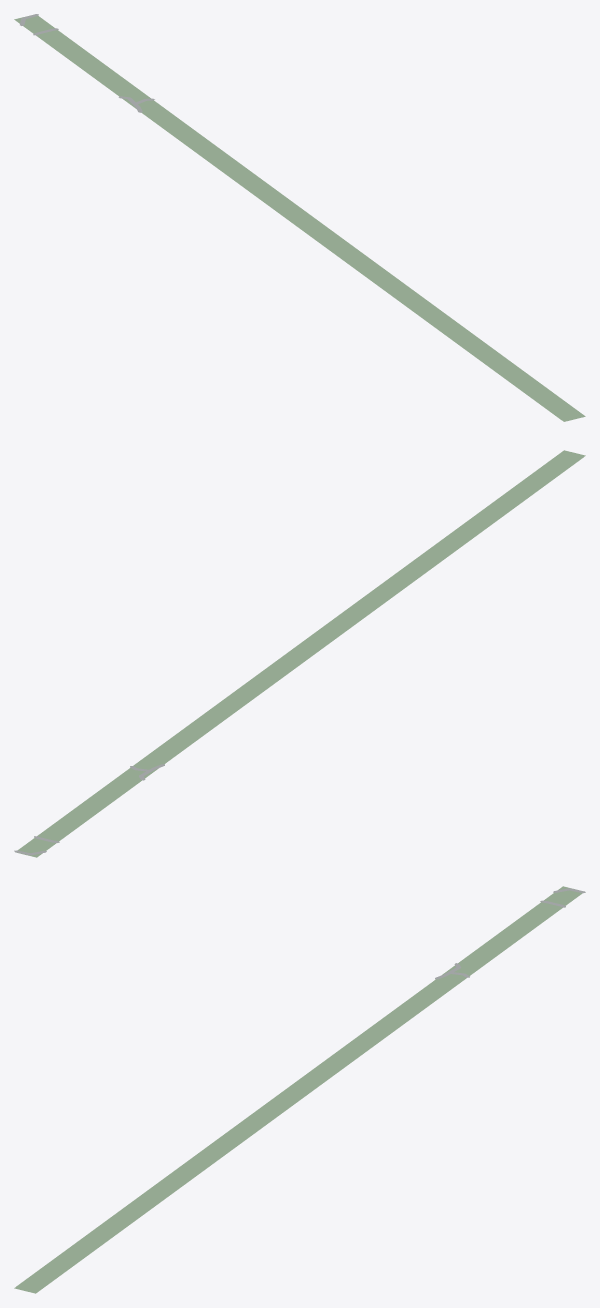
File: -5_3-known-fine.glb
3 views of the same model, one above another, from view 1: azimuth 30°, elevation 25°; view 2: azimuth 150°, elevation 25°; view 3: azimuth 330°, elevation 25° (orthographic).
Size of the model in its own units: 18.98 by 0.1 by 692.
